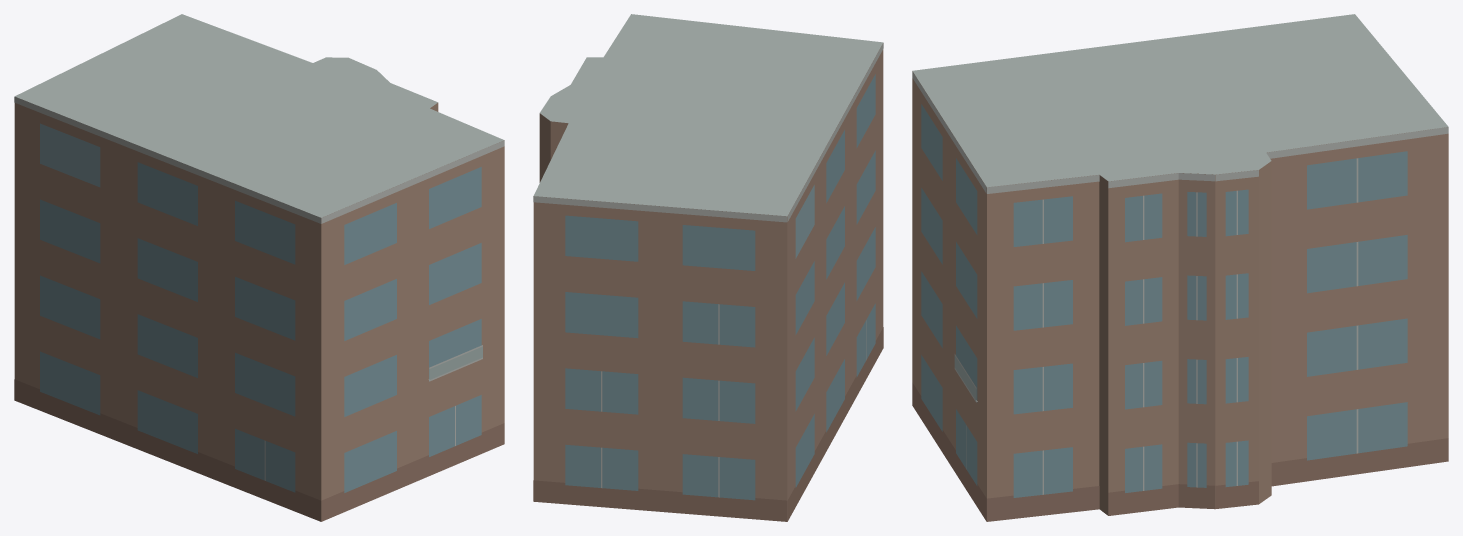
File: survey-upis-32971986.glb
3 views of the same model, side by side, from view 1: azimuth 30°, elevation 25°; view 2: azimuth 150°, elevation 25°; view 3: azimuth 270°, elevation 25° (orthographic). The views are drawn at different scales.
Visible parts, largest first — view 1: survey-upis-32971986.tmp; view 2: survey-upis-32971986.tmp; view 3: survey-upis-32971986.tmp.
Boxes of the visible parts, <box> form: survey-upis-32971986.tmp: <box>14,14,504,521</box>; survey-upis-32971986.tmp: <box>533,14,883,521</box>; survey-upis-32971986.tmp: <box>912,14,1448,521</box>.
Size of the model in its own units: 13.34 by 12 by 17.45.
